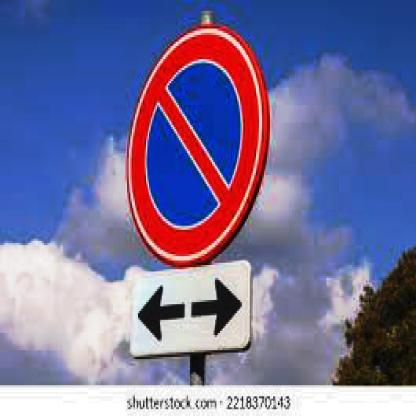No parking: (125, 22, 276, 274)
